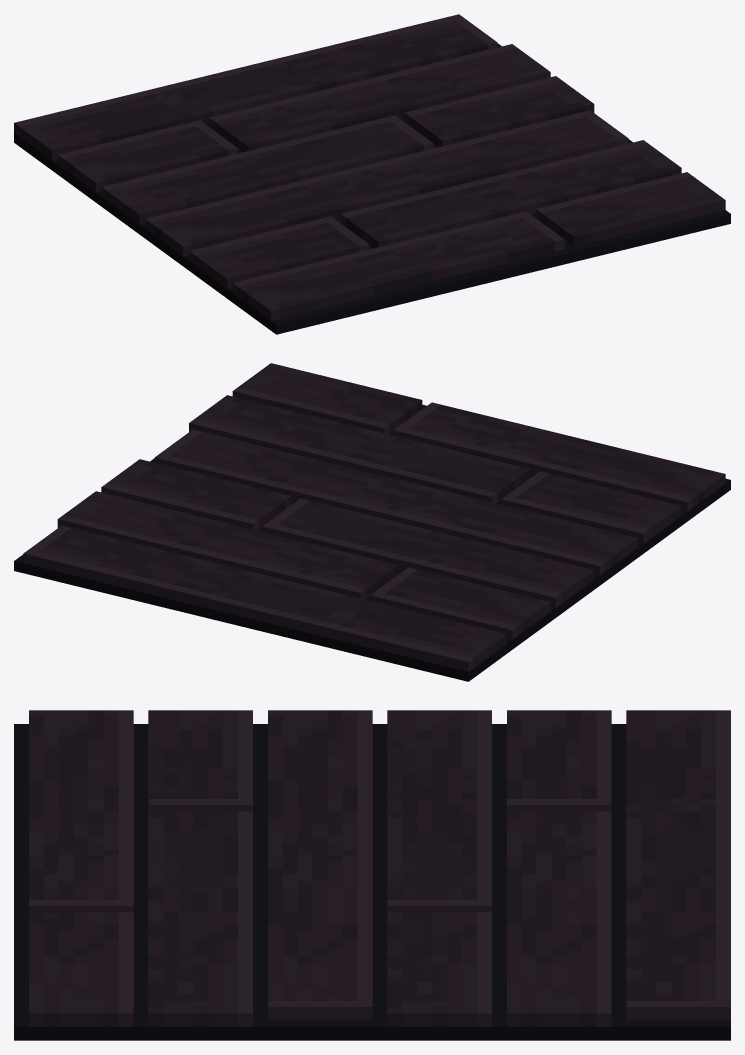
The model's file is Floor-1.obj.
3 views of the same model, one above another, from view 1: azimuth 30°, elevation 25°; view 2: azimuth 150°, elevation 25°; view 3: azimuth 270°, elevation 25° (orthographic). The views are drawn at different scales.
Bounding box in the file's own units: 4.8 × 0.2 × 4.8.
Materials: 1 (1 with a texture image).
